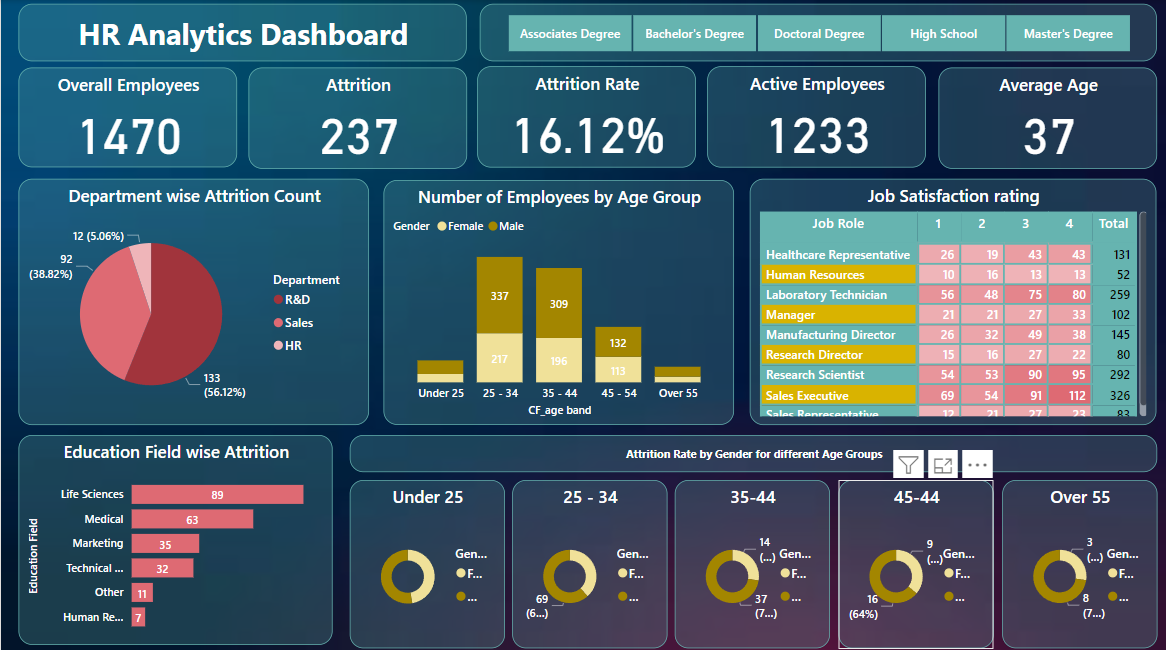

The dashboard page shown, as its layout file describes it:
{"tool":"powerbi","page":{"name":"HR Analytics Dashboard","canvas":[1280,720],"ordinal":0},"visuals":[{"type":"card","title":"Overall Employees","fields":{"Values":["Sum(HR data.Employee Count)"]},"box":[19.3,73.6,240,109.7],"z":0},{"type":"card","title":"Attrition","fields":{"Values":["Sum(HR data.Attrition Count)"]},"box":[271.4,73.6,240,111],"z":1000},{"type":"card","title":"Attrition Rate","fields":{"Values":["HR data.Attrition Rate"]},"box":[522.2,72.4,240,111],"z":2000},{"type":"card","title":"Active Employees","fields":{"Values":["HR data.Active Employees"]},"box":[775.5,72.4,240,111],"z":3000},{"type":"card","title":"Average Age","fields":{"Values":["Avg(HR data.Age)"]},"box":[1028.7,73.6,240,111],"z":4000},{"type":"pieChart","title":"Department wise Attrition Count","fields":{"Category":["HR data.Department"],"Y":["Sum(HR data.Attrition Count)"]},"box":[19.3,196.6,384.7,270.2],"z":5000},{"type":"columnChart","title":"Number of Employees by Age Group","fields":{"Category":["HR data.CF_age band"],"Y":["Sum(HR data.Employee Count)"],"Series":["HR data.Gender"]},"box":[419.7,197.8,384.7,268.9],"z":6000},{"type":"pivotTable","title":"Job Satisfaction rating","fields":{"Rows":["HR data.Job Role"],"Columns":["HR data.Job Satisfaction"],"Values":["Sum(HR data.Employee Count)"]},"box":[822.5,196.6,446.2,270.2],"z":7000},{"type":"barChart","title":"Education Field wise Attrition","fields":{"Category":["HR data.Education Field"],"Y":["Sum(HR data.Attrition Count)"]},"box":[19.3,477.6,344.9,230.4],"z":8000},{"type":"donutChart","title":"Under 25","fields":{"Category":["HR data.Gender"],"Y":["Sum(HR data.Attrition Count)"],"Series":["HR data.CF_age band"]},"box":[382.3,527,170,185],"z":9000},{"type":"textbox","box":[382.3,477.6,886.4,41],"z":10000},{"type":"donutChart","title":"Over 55","fields":{"Category":["HR data.Gender"],"Y":["Sum(HR data.Attrition Count)"],"Series":["HR data.CF_age band"]},"box":[1098.7,527,170.1,184.5],"z":11000},{"type":"donutChart","title":"45-44","fields":{"Category":["HR data.Gender"],"Y":["Sum(HR data.Attrition Count)"],"Series":["HR data.CF_age band"]},"box":[919,527,170.1,184.5],"z":12000},{"type":"donutChart","title":"35-44","fields":{"Category":["HR data.Gender"],"Y":["Sum(HR data.Attrition Count)"],"Series":["HR data.CF_age band"]},"box":[739.3,527,170.1,184.5],"z":13000},{"type":"donutChart","title":"25 - 34","fields":{"Category":["HR data.Gender"],"Y":["Sum(HR data.Attrition Count)"],"Series":["HR data.CF_age band"]},"box":[560.8,527,170.1,184.5],"z":14000},{"type":"textbox","box":[19.2,4.1,492.2,63.1],"z":15000},{"type":"slicer","fields":{"Values":["HR data.Education"]},"box":[525.1,4.1,743.1,63.1],"z":15001}]}

Visuals, with their boxes in screenshot pixels (x1, y1, x2, y2), scaled from the page's 1280x720 canvas onto the 1166x650 screenshot:
"Overall Employees" card: box=[18, 66, 236, 165]
"Attrition" card: box=[247, 66, 466, 167]
"Attrition Rate" card: box=[476, 65, 694, 166]
"Active Employees" card: box=[706, 65, 925, 166]
"Average Age" card: box=[937, 66, 1156, 167]
"Department wise Attrition Count" pieChart: box=[18, 177, 368, 421]
"Number of Employees by Age Group" columnChart: box=[382, 179, 733, 421]
"Job Satisfaction rating" pivotTable: box=[749, 177, 1156, 421]
"Education Field wise Attrition" barChart: box=[18, 431, 332, 639]
"Under 25" donutChart: box=[348, 476, 503, 643]
textbox: box=[348, 431, 1156, 468]
"Over 55" donutChart: box=[1001, 476, 1156, 642]
"45-44" donutChart: box=[837, 476, 992, 642]
"35-44" donutChart: box=[673, 476, 828, 642]
"25 - 34" donutChart: box=[511, 476, 666, 642]
textbox: box=[17, 4, 466, 61]
slicer - HR data.Education: box=[478, 4, 1155, 61]
